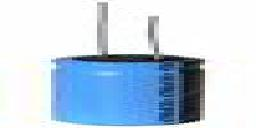Electrolytic-Capacitor: (45, 2, 209, 127)
